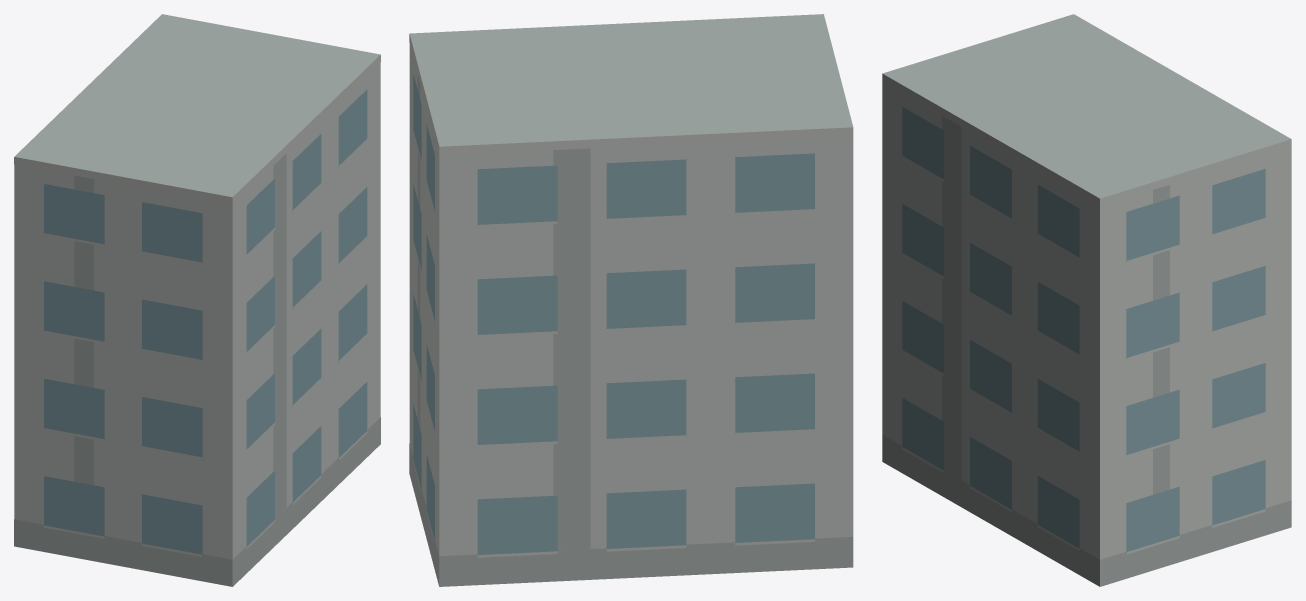
Rendered from residential-85c34de8-c9f4-4d31-babb-cc5ef23adbba.glb.
The picture shows the model from 3 angles, left to right: view 1: azimuth 30°, elevation 25°; view 2: azimuth 150°, elevation 25°; view 3: azimuth 270°, elevation 25°; orthographic projection. The views are drawn at different scales.
Visible parts, largest first — view 1: residential-85c34de8-c9f4-4d31-babb-cc5ef23adbba.tmp; view 2: residential-85c34de8-c9f4-4d31-babb-cc5ef23adbba.tmp; view 3: residential-85c34de8-c9f4-4d31-babb-cc5ef23adbba.tmp.
Part boxes in pixels (x1,y1,x2,y2): residential-85c34de8-c9f4-4d31-babb-cc5ef23adbba.tmp: [14, 14, 380, 586]; residential-85c34de8-c9f4-4d31-babb-cc5ef23adbba.tmp: [409, 14, 853, 586]; residential-85c34de8-c9f4-4d31-babb-cc5ef23adbba.tmp: [882, 14, 1291, 586].
Size of the model in its own units: 12.45 by 12.2 by 11.66.
